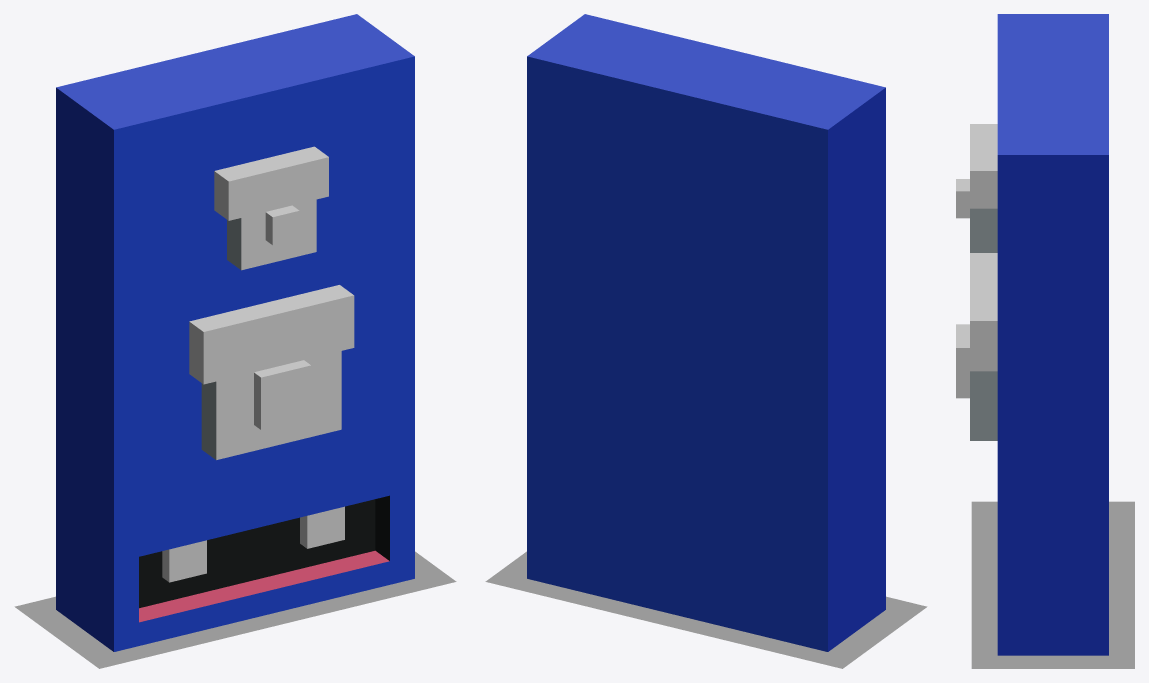
The model's file is EN_TallBit_Blue.fbx.
3 views of the same model, side by side, from view 1: azimuth 30°, elevation 25°; view 2: azimuth 150°, elevation 25°; view 3: azimuth 270°, elevation 25° (orthographic). The views are drawn at different scales.
Visible parts, largest first — view 1: Body, Eyebrow, Mouth, Eye, Shadow, Eyebrow_SM, Eye_SM, Pupil, Pupil_SM; view 2: Body, Shadow; view 3: Body, Shadow, Eyebrow, Eyebrow_SM, Eye, Eye_SM, Pupil, Pupil_SM.
Part boxes in pixels (left/top/right/bottom): Body: left=56, top=14, right=414, bottom=651; Eyebrow: left=189, top=285, right=354, bottom=384; Mouth: left=139, top=550, right=389, bottom=645; Eye: left=201, top=351, right=341, bottom=460; Shadow: left=14, top=551, right=456, bottom=668; Eyebrow_SM: left=214, top=146, right=328, bottom=220; Eye_SM: left=227, top=199, right=316, bottom=270; Pupil: left=254, top=360, right=311, bottom=429; Pupil_SM: left=265, top=205, right=299, bottom=245; Body: left=527, top=14, right=885, bottom=651; Shadow: left=485, top=551, right=927, bottom=668; Body: left=997, top=14, right=1108, bottom=655; Shadow: left=971, top=501, right=1134, bottom=668; Eyebrow: left=970, top=253, right=997, bottom=371; Eyebrow_SM: left=970, top=124, right=997, bottom=208; Eye: left=970, top=371, right=997, bottom=440; Eye_SM: left=970, top=208, right=997, bottom=252; Pupil: left=956, top=324, right=969, bottom=398; Pupil_SM: left=956, top=179, right=969, bottom=218.
Size of the model in its own units: 71.23 by 100 by 32.18.
